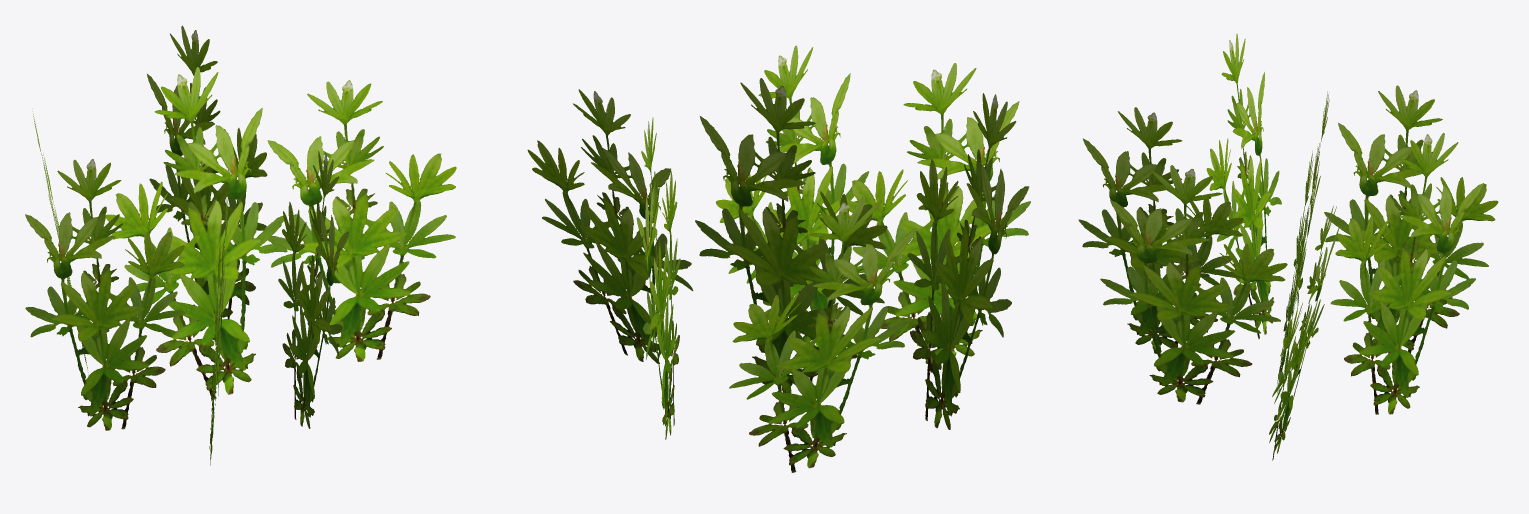
The model's file is ForestPlant1-1.fbx.
The picture shows the model from 3 angles, left to right: view 1: azimuth 30°, elevation 25°; view 2: azimuth 150°, elevation 25°; view 3: azimuth 270°, elevation 25°; orthographic projection. The views are drawn at different scales.
Parts seen in each view (by area): view 1: ForestPlant1-1; view 2: ForestPlant1-1; view 3: ForestPlant1-1.
Boxes of the visible parts, left/top/right/bottom form: ForestPlant1-1: left=25, top=25, right=456, bottom=465; ForestPlant1-1: left=527, top=45, right=1030, bottom=472; ForestPlant1-1: left=1078, top=33, right=1498, bottom=460.
Bounding box in the file's own units: 116 × 76.84 × 99.91.
